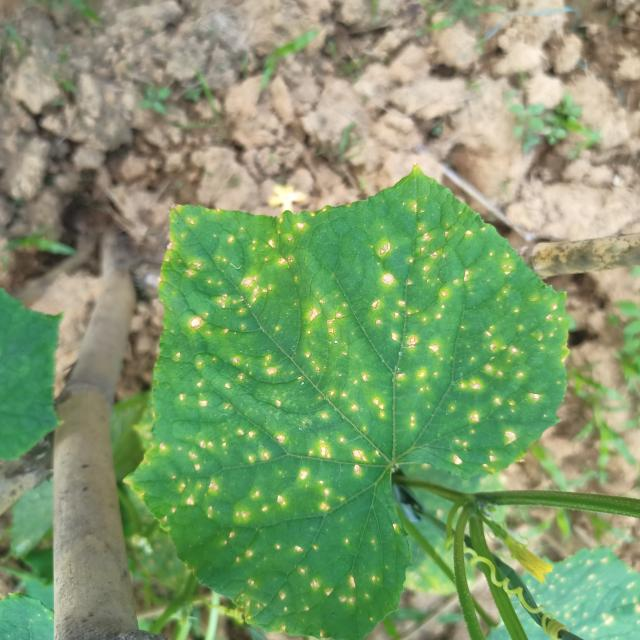disease_cucumber: (154, 208, 566, 623)
